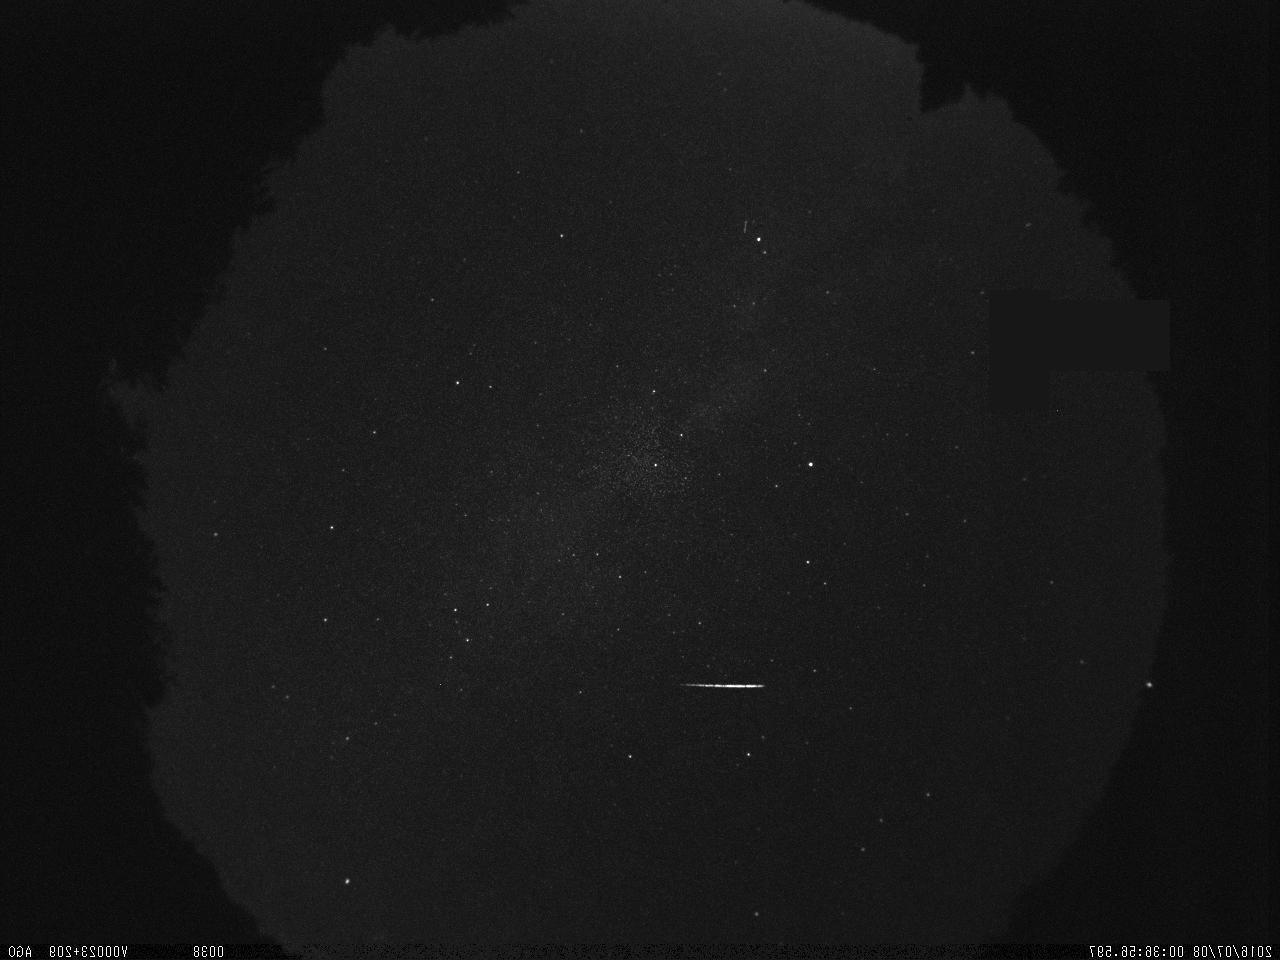meteor: (674, 674, 775, 697)
